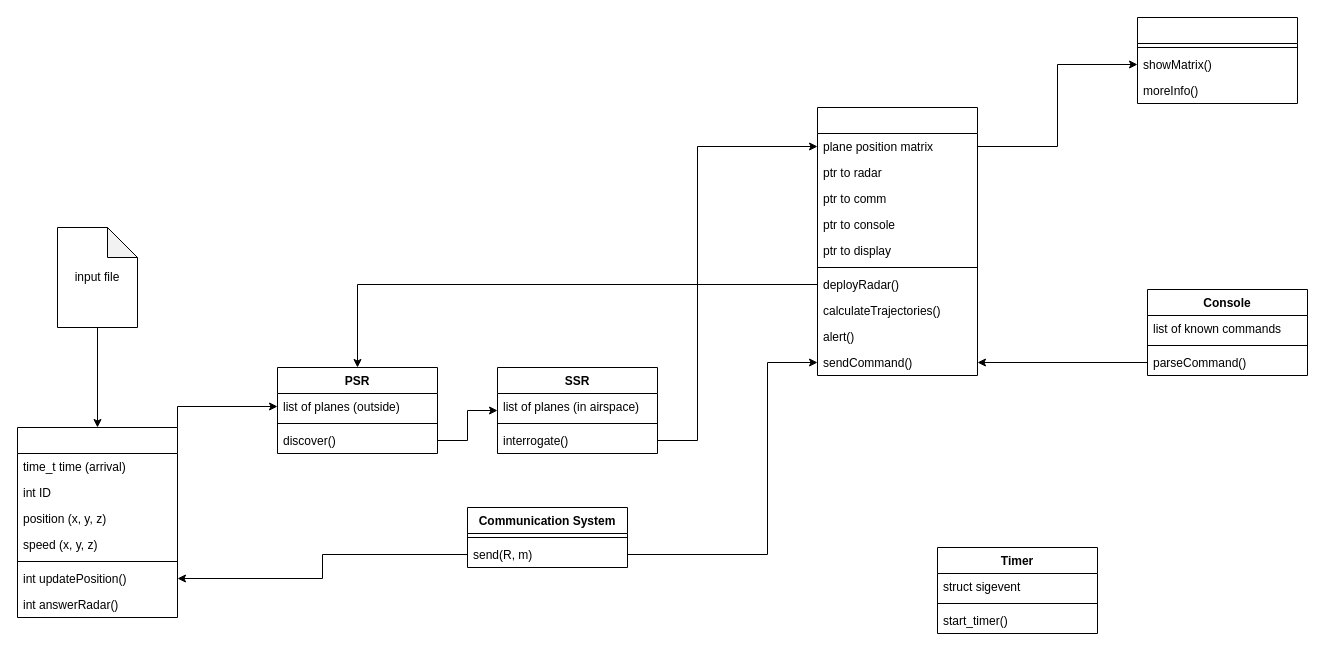
The diagram is 1325 pixels wide and 654 high, and some of its shapes have lost their labels. Each missing label, with the box of its shape:
Computer System: (816, 106, 978, 376)
Display: (1136, 16, 1298, 104)
Plane: (16, 426, 178, 618)
